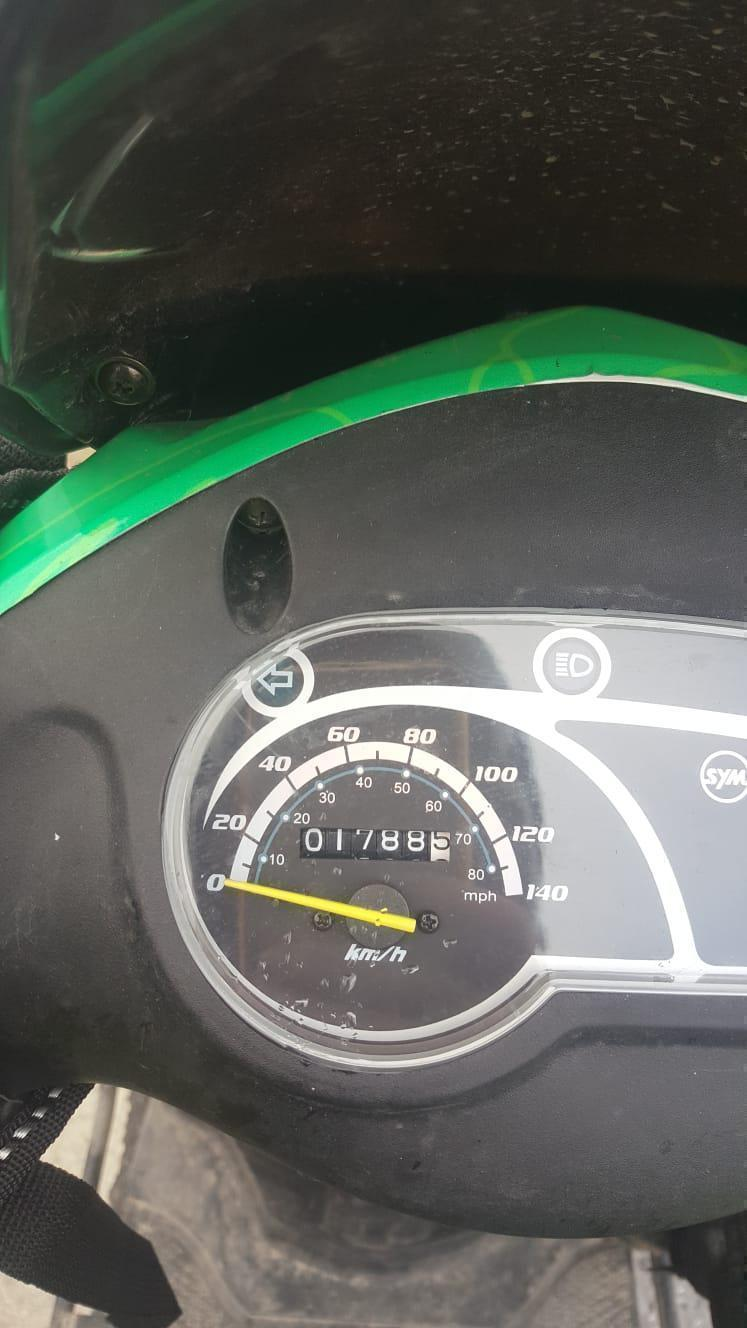0: (304, 827, 323, 852)
1: (336, 827, 343, 851)
5: (433, 829, 450, 850)
7: (356, 828, 373, 850)
8: (380, 828, 399, 851), (406, 828, 425, 851)
odometer: (298, 826, 452, 863)
